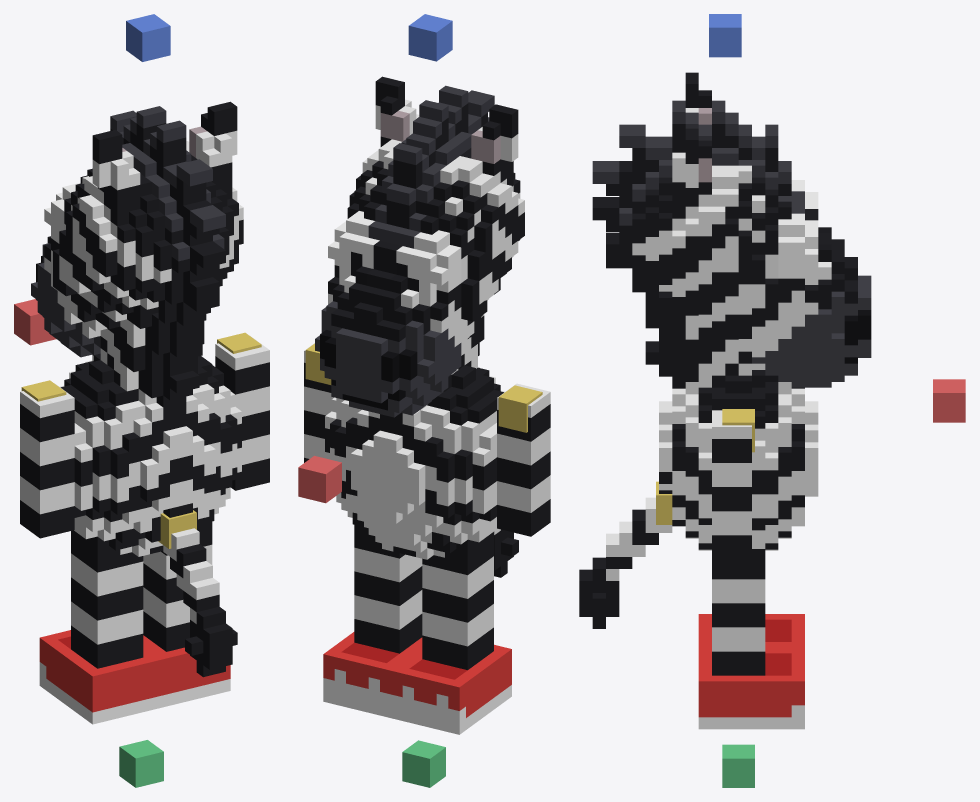
The model's file is ZibraZubraZibralini.glb.
3 renders of one model, left to right at view 1: azimuth 30°, elevation 25°; view 2: azimuth 150°, elevation 25°; view 3: azimuth 270°, elevation 25°, orthographic.
Visible parts, largest first — view 1: ZibraZubraZibralini_Head4, ZibraZubraZibralini_Body, ZibraZubraZibralini_Leg2, ZibraZubraZibralini_Arm6, ZibraZubraZibralini_Leg1, ZibraZubraZibralini_Tail3, ZibraZubraZibralini_Arm5, ZibraZubraZibralini_Top, ZibraZubraZibralini_Built, ZibraZubraZibralini_Front, ZibraZubraZibralini_Pivot3, ZibraZubraZibralini_Pivot6 (+1 smaller); view 2: ZibraZubraZibralini_Head4, ZibraZubraZibralini_Body, ZibraZubraZibralini_Leg2, ZibraZubraZibralini_Leg1, ZibraZubraZibralini_Arm6, ZibraZubraZibralini_Arm5, ZibraZubraZibralini_Top, ZibraZubraZibralini_Built, ZibraZubraZibralini_Front, ZibraZubraZibralini_Pivot6, ZibraZubraZibralini_Tail3, ZibraZubraZibralini_Pivot5; view 3: ZibraZubraZibralini_Head4, ZibraZubraZibralini_Body, ZibraZubraZibralini_Leg1, ZibraZubraZibralini_Arm5, ZibraZubraZibralini_Tail3, ZibraZubraZibralini_Leg2, ZibraZubraZibralini_Front, ZibraZubraZibralini_Top, ZibraZubraZibralini_Built.
Part boxes in pixels (left/top/right/bottom): ZibraZubraZibralini_Head4: left=31, top=101, right=243, bottom=407; ZibraZubraZibralini_Body: left=59, top=353, right=241, bottom=556; ZibraZubraZibralini_Leg2: left=39, top=530, right=161, bottom=724; ZibraZubraZibralini_Arm6: left=20, top=383, right=74, bottom=538; ZibraZubraZibralini_Leg1: left=143, top=521, right=230, bottom=707; ZibraZubraZibralini_Tail3: left=163, top=528, right=237, bottom=677; ZibraZubraZibralini_Arm5: left=215, top=336, right=269, bottom=490; ZibraZubraZibralini_Top: left=126, top=14, right=170, bottom=61; ZibraZubraZibralini_Built: left=119, top=740, right=163, bottom=787; ZibraZubraZibralini_Front: left=14, top=299, right=56, bottom=345; ZibraZubraZibralini_Pivot3: left=158, top=510, right=196, bottom=548; ZibraZubraZibralini_Pivot6: left=21, top=380, right=66, bottom=401; ZibraZubraZibralini_Head4: left=315, top=76, right=524, bottom=417; ZibraZubraZibralini_Body: left=325, top=365, right=504, bottom=559; ZibraZubraZibralini_Leg2: left=391, top=532, right=511, bottom=734; ZibraZubraZibralini_Leg1: left=323, top=525, right=422, bottom=717; ZibraZubraZibralini_Arm6: left=497, top=383, right=550, bottom=536; ZibraZubraZibralini_Arm5: left=304, top=343, right=333, bottom=462; ZibraZubraZibralini_Top: left=408, top=14, right=452, bottom=61; ZibraZubraZibralini_Built: left=402, top=740, right=445, bottom=787; ZibraZubraZibralini_Front: left=298, top=455, right=341, bottom=503; ZibraZubraZibralini_Pivot6: left=498, top=385, right=542, bottom=432; ZibraZubraZibralini_Tail3: left=494, top=529, right=518, bottom=577; ZibraZubraZibralini_Pivot5: left=305, top=343, right=331, bottom=384; ZibraZubraZibralini_Head4: left=592, top=72, right=871, bottom=394; ZibraZubraZibralini_Body: left=659, top=370, right=818, bottom=555; ZibraZubraZibralini_Leg1: left=698, top=555, right=804, bottom=729; ZibraZubraZibralini_Arm5: left=712, top=410, right=751, bottom=559; ZibraZubraZibralini_Tail3: left=579, top=497, right=672, bottom=628; ZibraZubraZibralini_Leg2: left=698, top=614, right=804, bottom=647; ZibraZubraZibralini_Front: left=933, top=379, right=965, bottom=422; ZibraZubraZibralini_Top: left=709, top=14, right=741, bottom=57; ZibraZubraZibralini_Built: left=722, top=744, right=754, bottom=787.
Bounding box in the file's own units: 2.04 × 6.45 × 2.97.
1 material, 1 textured.
